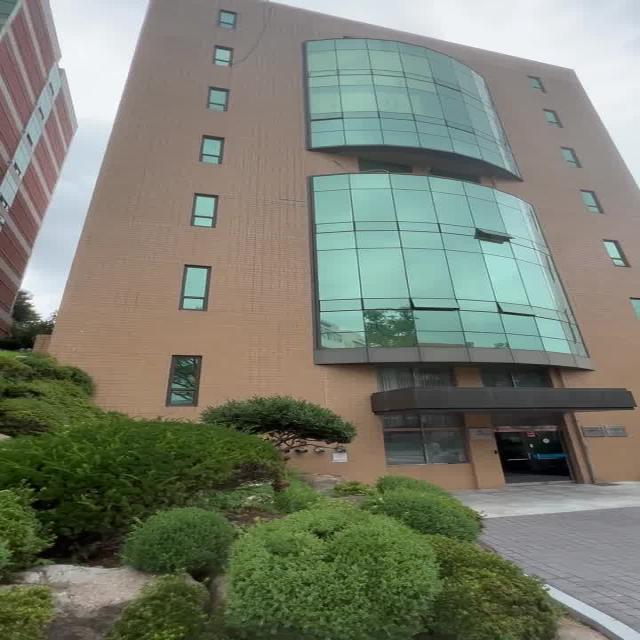building: (83, 6, 640, 410)
